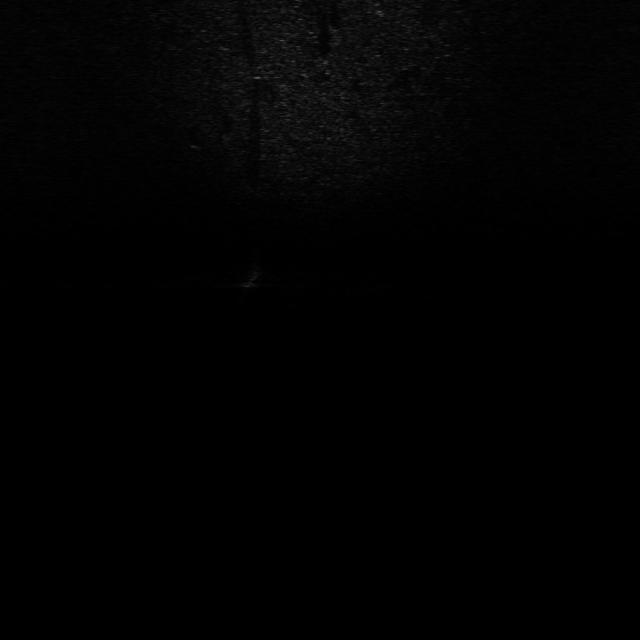human body: (237, 253, 266, 303)
